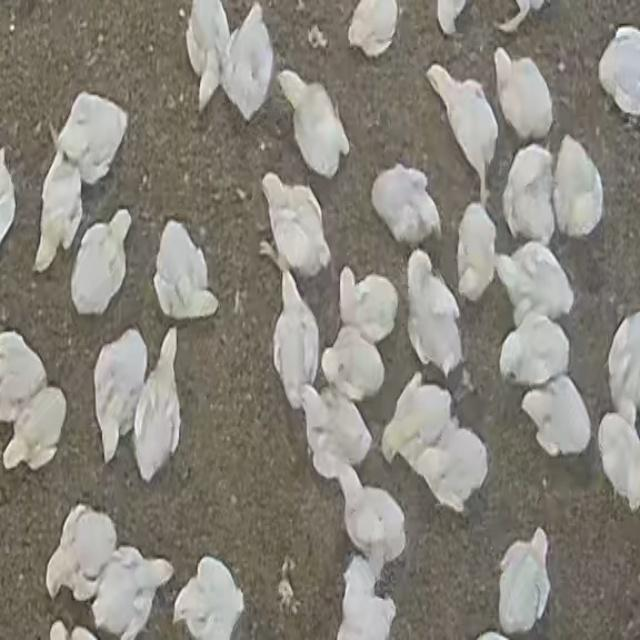chicken: (426, 63, 500, 199), (90, 544, 175, 640), (276, 71, 348, 178), (261, 173, 331, 283), (329, 468, 406, 568), (93, 328, 148, 466), (404, 251, 463, 379), (300, 383, 374, 482), (134, 330, 182, 480), (46, 504, 118, 604), (57, 91, 129, 186), (273, 270, 320, 412), (220, 1, 276, 120), (152, 220, 215, 321), (71, 210, 131, 316), (372, 162, 442, 250), (173, 557, 245, 640), (521, 373, 591, 458), (497, 247, 576, 321), (497, 528, 551, 636), (34, 156, 84, 272), (3, 386, 67, 475), (384, 380, 457, 458), (331, 556, 396, 640), (552, 136, 604, 238), (501, 146, 555, 244), (497, 318, 572, 386), (186, 1, 232, 111), (495, 52, 553, 139), (417, 435, 487, 507), (338, 267, 398, 345), (1, 329, 50, 423), (596, 413, 640, 512), (598, 26, 640, 125), (605, 312, 640, 428), (456, 206, 498, 301), (347, 0, 398, 56), (495, 1, 549, 33), (436, 1, 473, 38)
